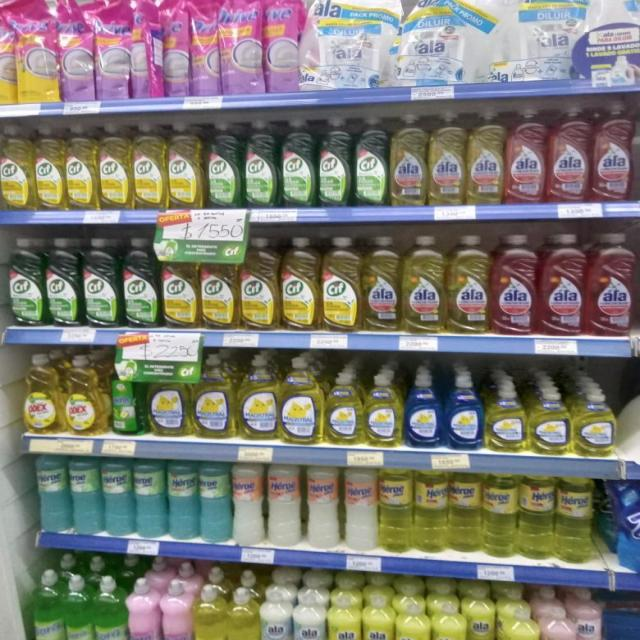ala_conc_amarillo: (448, 234, 491, 335), (403, 234, 445, 334), (428, 109, 466, 206), (467, 107, 504, 205), (363, 235, 400, 332), (390, 112, 427, 206)
ala_conc_rojo: (588, 230, 634, 337), (540, 232, 586, 338), (492, 233, 538, 336), (548, 102, 590, 204), (593, 100, 632, 203), (507, 104, 547, 204), (633, 98, 640, 202)
ala_crem_amarillo: (498, 586, 540, 640), (328, 583, 361, 640), (466, 584, 497, 640), (432, 588, 465, 640), (363, 588, 394, 640), (395, 594, 430, 640)
ala_crem_blanco: (293, 585, 326, 640), (260, 584, 292, 640)
ala_crem_rosado: (576, 589, 604, 640), (542, 599, 576, 640)
cif_conc_bot_amarilla: (322, 235, 361, 332), (240, 236, 279, 331), (282, 236, 319, 332), (201, 237, 238, 331), (162, 237, 198, 330), (168, 121, 204, 209), (133, 122, 166, 210), (99, 122, 131, 210), (0, 123, 32, 211), (66, 122, 97, 210), (34, 123, 64, 211)
cif_conc_botella_verde: (122, 237, 159, 328), (83, 237, 120, 328), (8, 237, 44, 327), (354, 115, 389, 207), (206, 120, 242, 209), (280, 119, 316, 208), (318, 116, 352, 208), (46, 237, 80, 327), (244, 119, 278, 208)
drive: (15, 0, 58, 103), (94, 0, 134, 100), (220, 0, 262, 94), (59, 0, 95, 102), (1, 1, 16, 105)
esencial: (227, 586, 259, 640)
gigante: (94, 575, 128, 640), (128, 576, 160, 640), (162, 578, 192, 640), (193, 584, 226, 640)
heroe: (556, 476, 598, 564), (518, 473, 554, 561), (266, 463, 303, 548), (305, 465, 341, 550), (482, 472, 517, 558), (343, 466, 377, 552), (448, 471, 482, 555), (379, 468, 412, 554), (414, 469, 447, 554), (232, 462, 264, 547), (35, 454, 68, 534), (134, 458, 166, 540), (167, 459, 198, 542), (200, 461, 230, 544), (102, 458, 133, 538), (70, 456, 101, 536), (31, 571, 64, 640)
magistral_con_amarillo: (280, 357, 323, 445), (192, 354, 235, 439), (238, 354, 278, 442), (148, 360, 190, 438), (573, 388, 618, 458), (486, 380, 527, 453), (325, 371, 363, 446), (365, 372, 402, 448), (530, 386, 570, 456)
magistral_con_azul: (445, 374, 484, 451), (405, 372, 443, 449)
odex: (63, 353, 108, 436), (20, 352, 62, 434)
